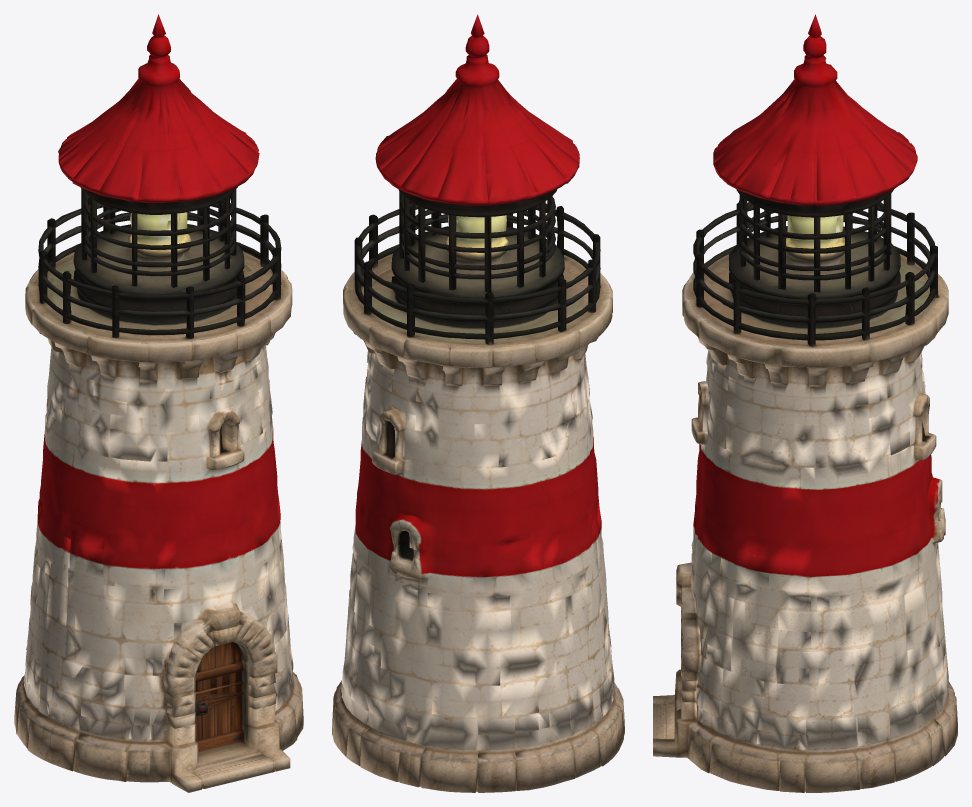
Rendered from lighthouse.glb.
The picture shows the model from 3 angles, left to right: view 1: azimuth 30°, elevation 25°; view 2: azimuth 150°, elevation 25°; view 3: azimuth 270°, elevation 25°; orthographic projection.
Visible parts, largest first — view 1: tripo_node_855ec518-3659-409b-af80-15ff7b3ccf27; view 2: tripo_node_855ec518-3659-409b-af80-15ff7b3ccf27; view 3: tripo_node_855ec518-3659-409b-af80-15ff7b3ccf27.
Part boxes in pixels (x1=…): tripo_node_855ec518-3659-409b-af80-15ff7b3ccf27: x1=14, y1=14, x2=303, y2=792; tripo_node_855ec518-3659-409b-af80-15ff7b3ccf27: x1=332, y1=14, x2=624, y2=792; tripo_node_855ec518-3659-409b-af80-15ff7b3ccf27: x1=653, y1=14, x2=957, y2=792.
Bounding box in the file's own units: 0.3663 × 0.98 × 0.3778.
Materials: 1 (1 with a texture image).
